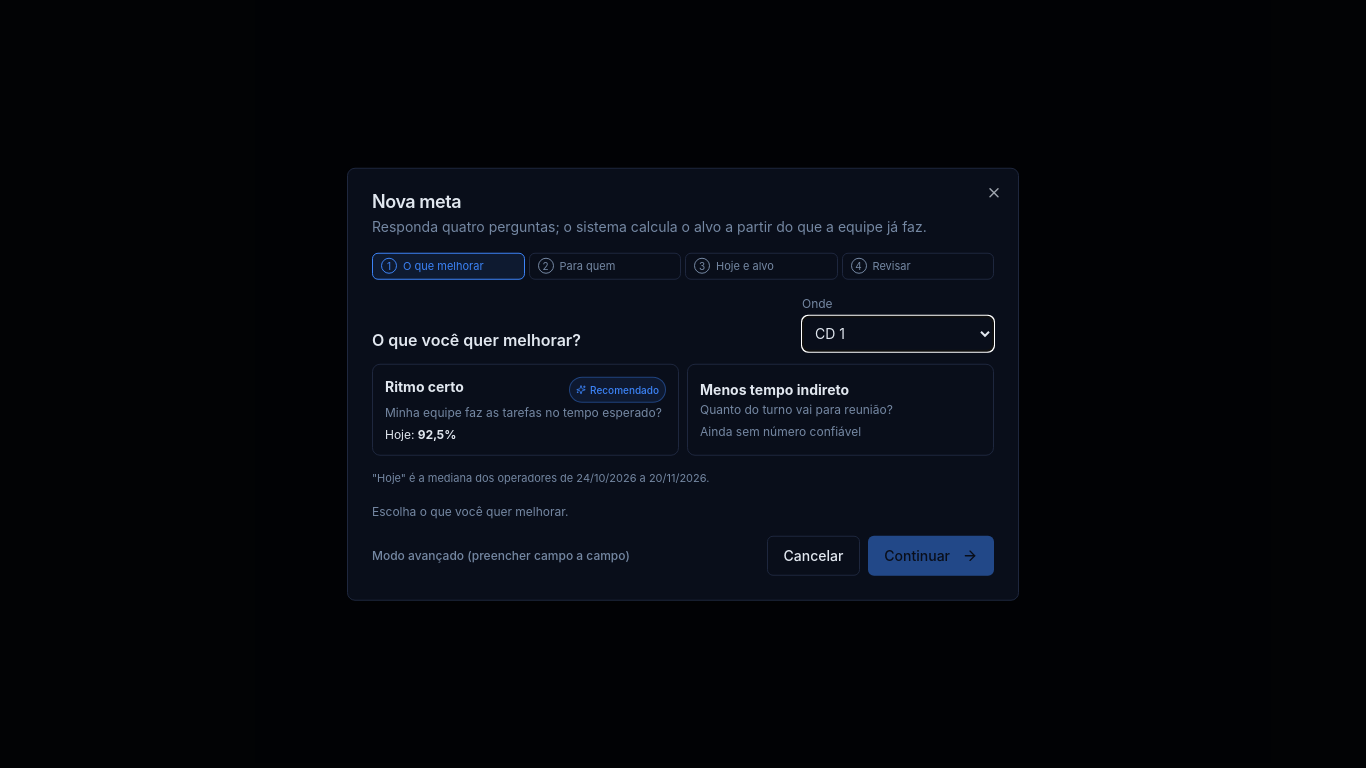
it: Fase 10.28 · assistente de 4 passos › objetivo → para quem → nível Evoluir recomendado → ativa com os dados do assistente
The image size is (1366, 768).
Later steps or results of the test are not shown.
Check: the text "Ritmo certo" is shown, box [385, 376, 464, 396]
Check: the text "Recomendado" is shown, box [569, 376, 666, 402]
Click the radio button labelled "Ritmo certo". click: (526, 409)
box: [372, 363, 679, 455]
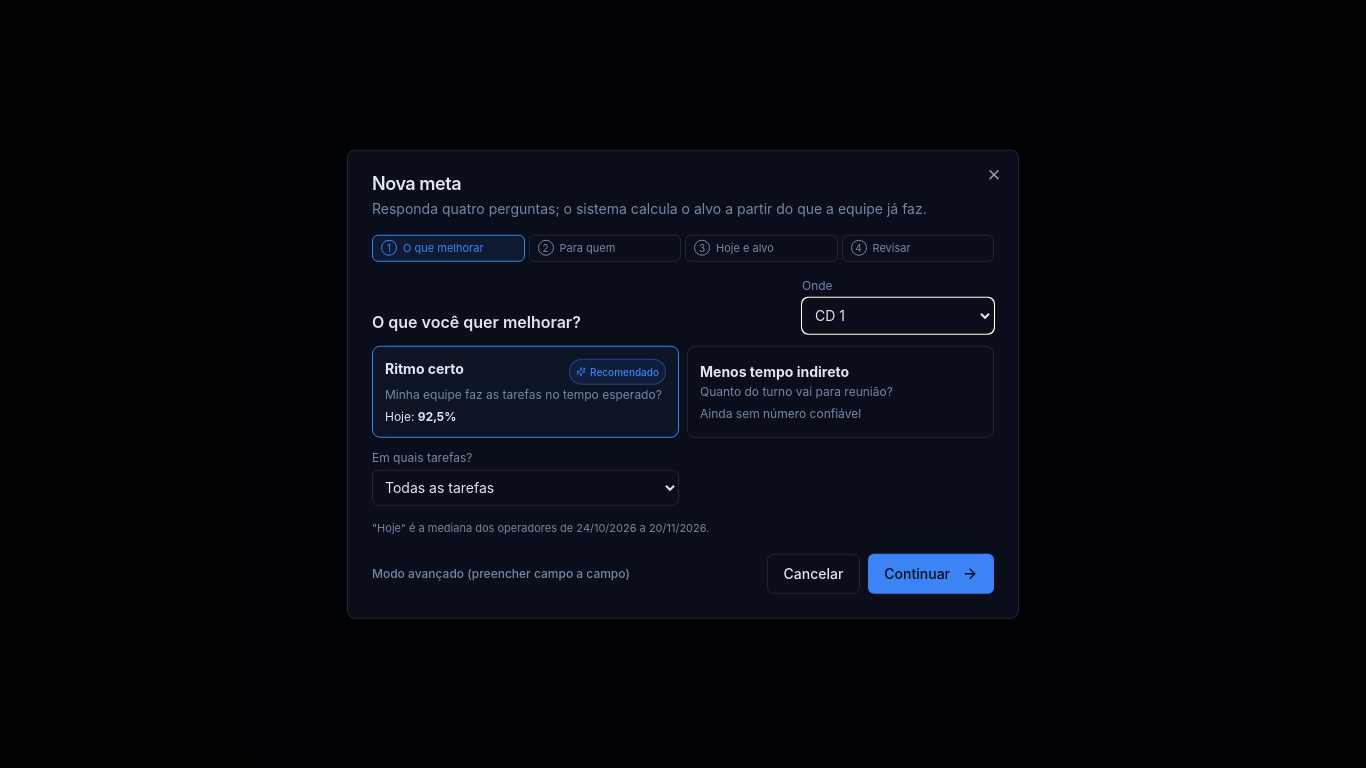
Click the button "Continuar". click: (931, 573)
box: [868, 553, 994, 593]
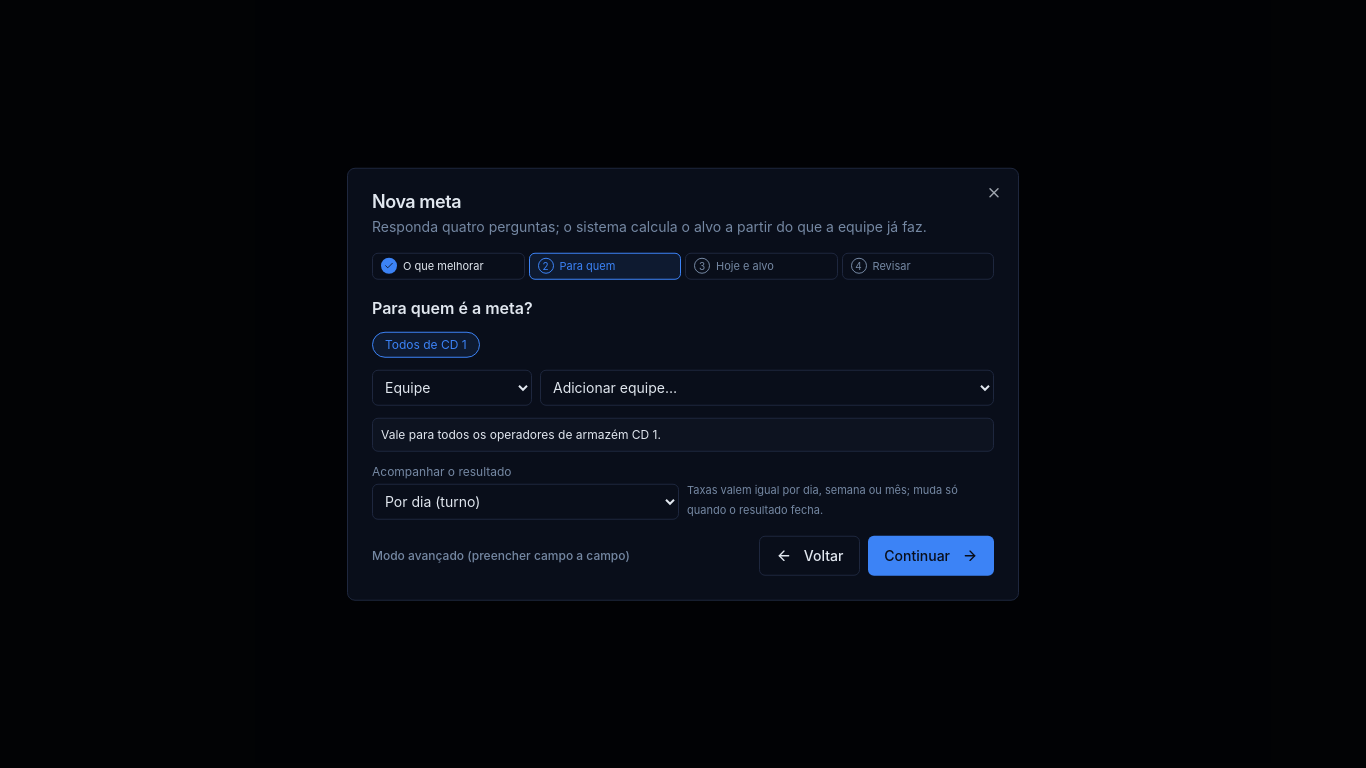
Select "Equipe A" in the dropdown named "Adicionar". click: (767, 387)
box: [540, 369, 994, 405]
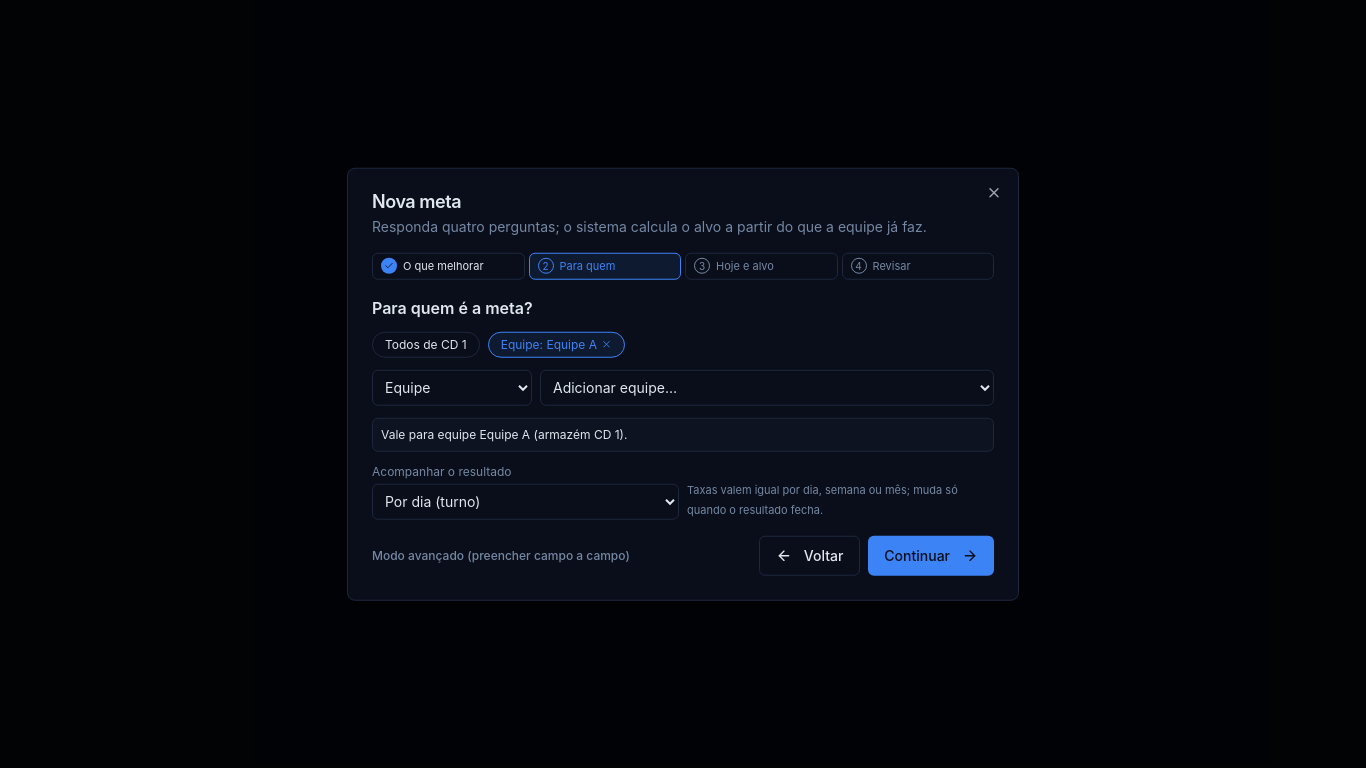
Check: the text "Vale para equipe Equipe A (armazém CD 1)." is shown, box [372, 417, 994, 451]
Click the button "Continuar". click: (931, 555)
box: [868, 535, 994, 575]
(page scrolled)
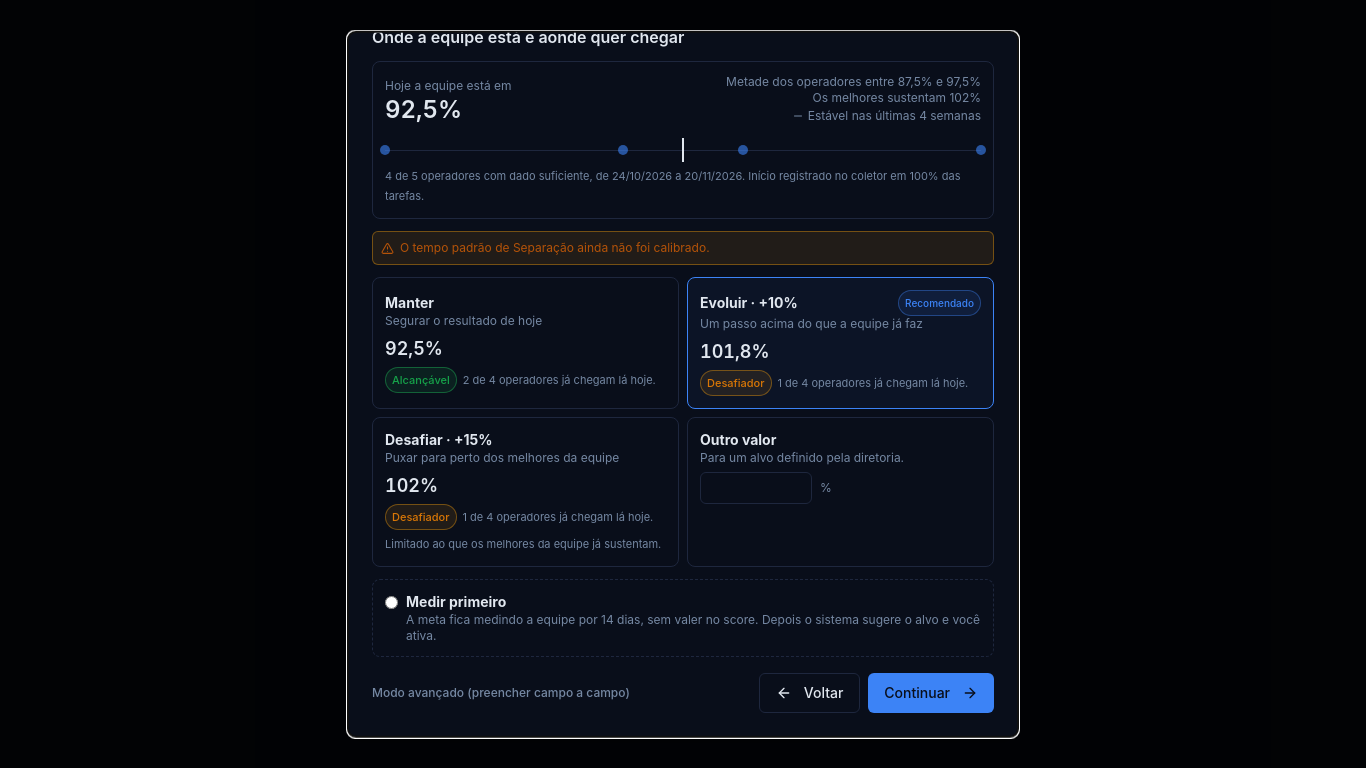
Check: the element with test id "linha-base" shows "92,5%", box [385, 94, 462, 123]
Check: the text "O tempo padrão de Separação ainda não foi calibrado." is shown, box [372, 230, 994, 264]
Check: the text "Limitado ao que os melhores da equipe já sustentam." is shown, box [385, 533, 666, 553]
Click the button "Continuar". click: (931, 692)
box: [868, 672, 994, 712]
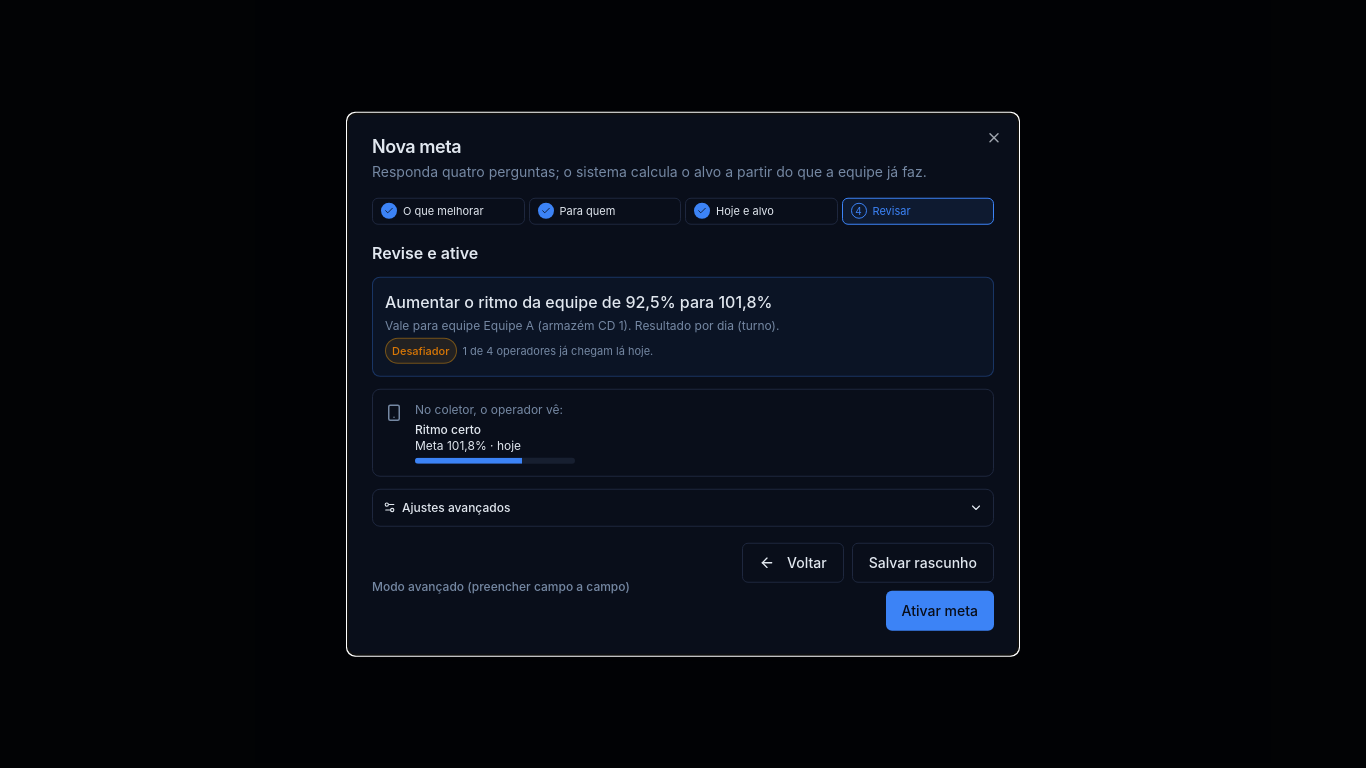
Check: the text with test id "frase-meta" reads "Aumentar o ritmo da equipe de 92,5% para 101,8%", box [385, 291, 772, 311]
